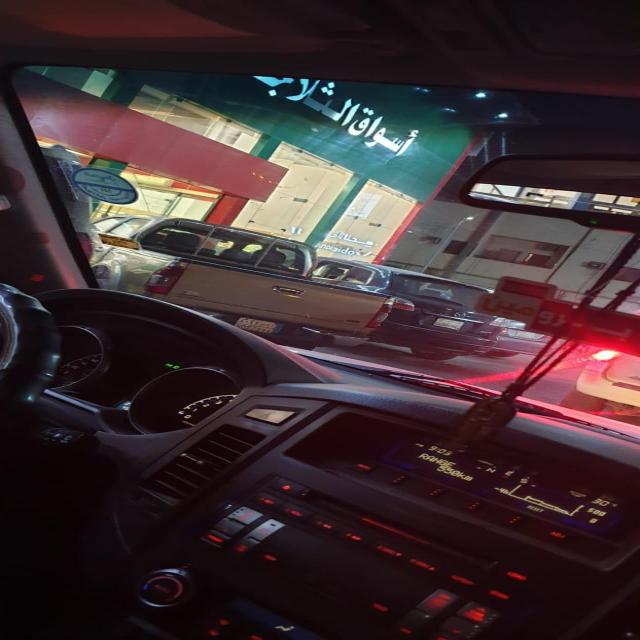license_plate: (231, 316, 283, 336), (431, 318, 469, 331), (516, 330, 535, 340)
